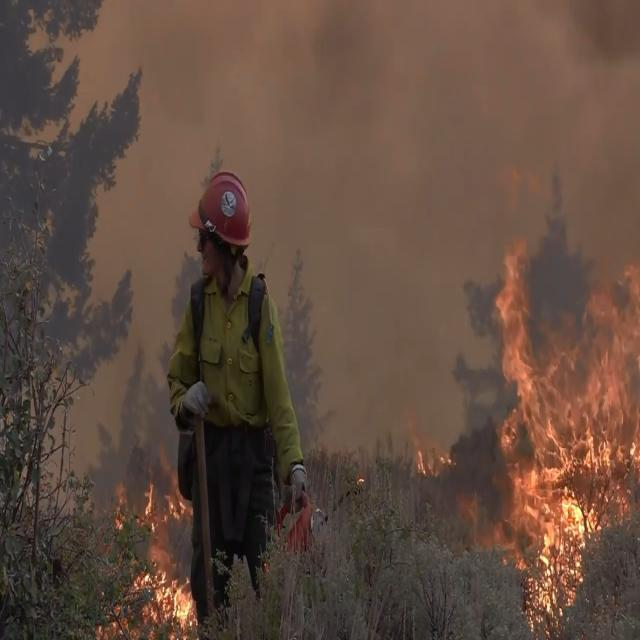Fire: (414, 208, 640, 640), (96, 450, 196, 640)
